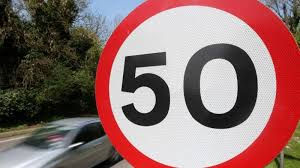Speed_limit_50km: (88, 1, 300, 166)
